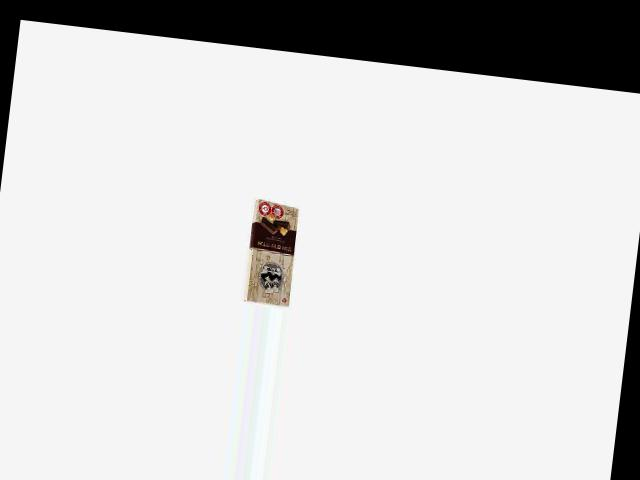chocolate: (234, 196, 302, 307)
